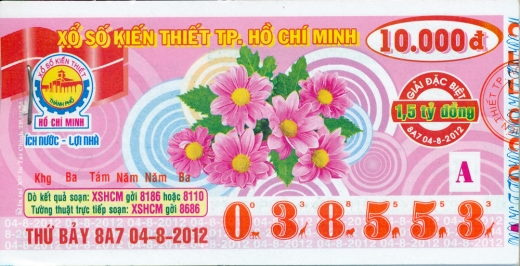serial_zone: (213, 196, 503, 248)
